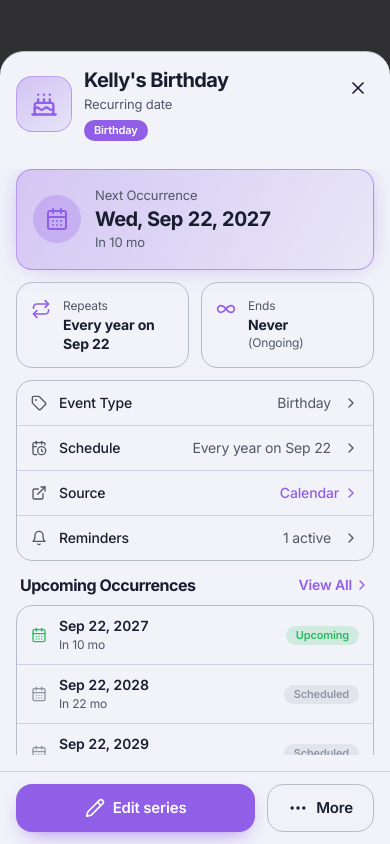
Test: a birthday shows only what applies › has Edit and More — no check-off, no skip, no per-date actions
The image size is (390, 844).
Expected: the heading with test id "cal-detail-title" reads "Kelly's Birthday", [84, 68, 228, 92]
Expected: the button with test id "cal-detail-next" shows "Sep 22, 2027", [16, 169, 374, 270]
Click the button with test id "cal-action-more" at (321, 808), box [267, 784, 374, 832]
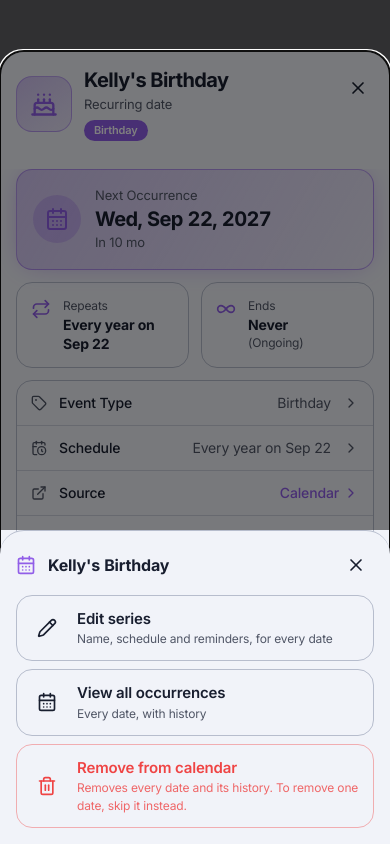
Expected: the button with test id "cal-more-edit" is shown, [16, 594, 374, 661]
Expected: the button with test id "cal-action-deleteSeries" shows "Remove from calendar", [16, 744, 374, 828]
